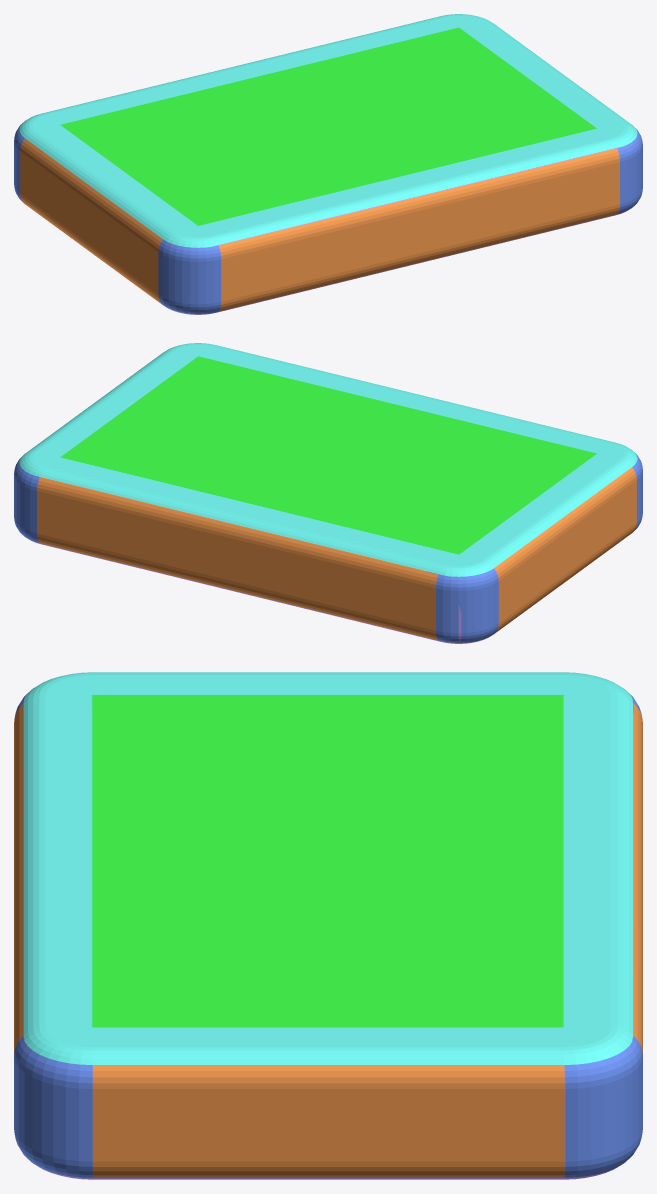
File: NewCardModel.fbx
The picture shows the model from 3 angles, top to bottom: view 1: azimuth 30°, elevation 25°; view 2: azimuth 150°, elevation 25°; view 3: azimuth 270°, elevation 25°; orthographic projection. The views are drawn at different scales.
Parts seen in each view (by area): view 1: Rectangle; view 2: Rectangle; view 3: Rectangle.
Part boxes in pixels (left/top/right/bottom): Rectangle: left=14, top=14, right=642, bottom=314; Rectangle: left=14, top=343, right=642, bottom=643; Rectangle: left=14, top=672, right=642, bottom=1179.
Bounding box in the file's own units: 300 × 45.41 × 200.
